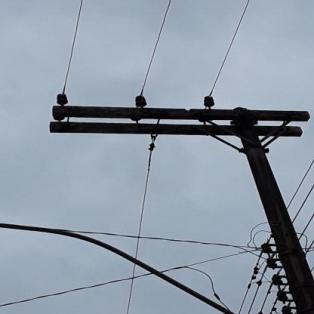Poste: (223, 100, 314, 314)
